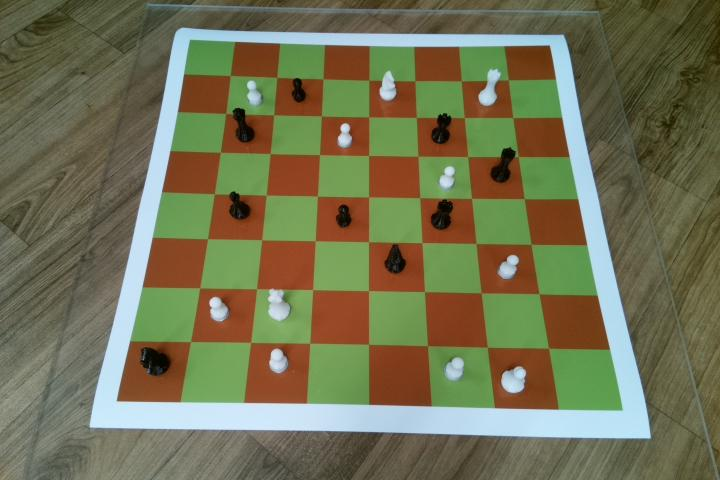chessboard-detect: (116, 40, 625, 411)
